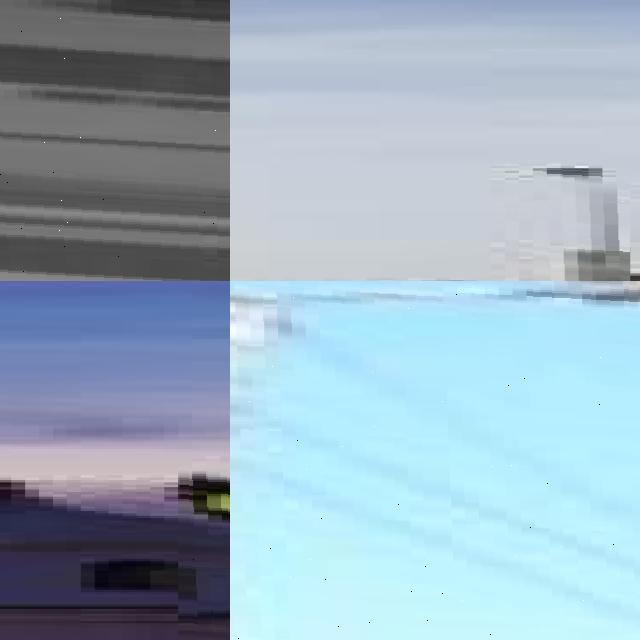street light: (230, 281, 640, 640), (0, 0, 230, 281), (532, 168, 630, 281), (178, 465, 230, 640)
